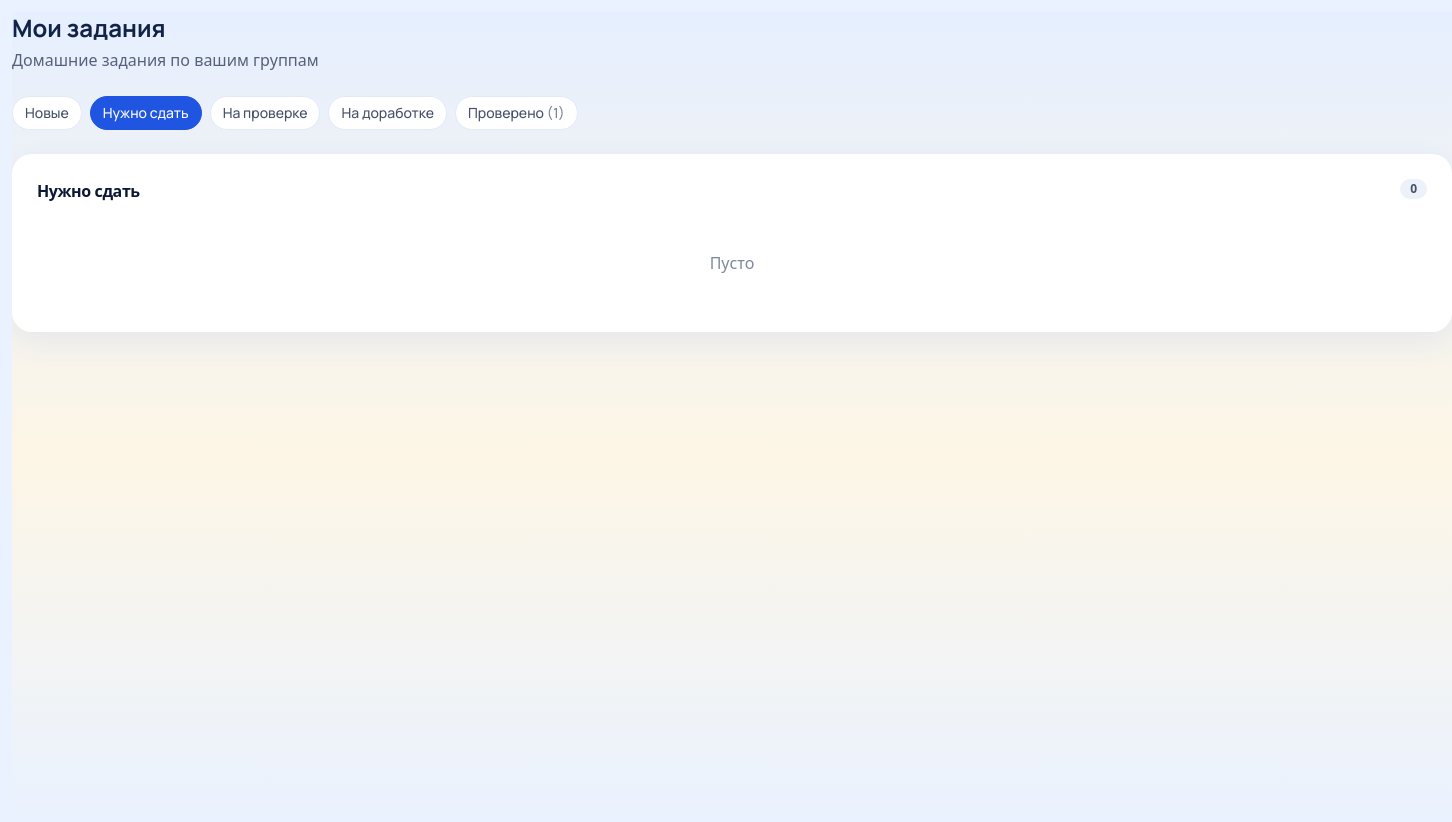
MyHomeworksV2Page — категории (server-derived, проверяем что UI их корректно отображает по вкладкам) › checked (rejected): тоже попадает во вкладку «Проверено»
This screenshot has width=1452, height=822.
Click the button "Проверено (1)".
click(516, 113)  # box left=455, top=96, right=578, bottom=130
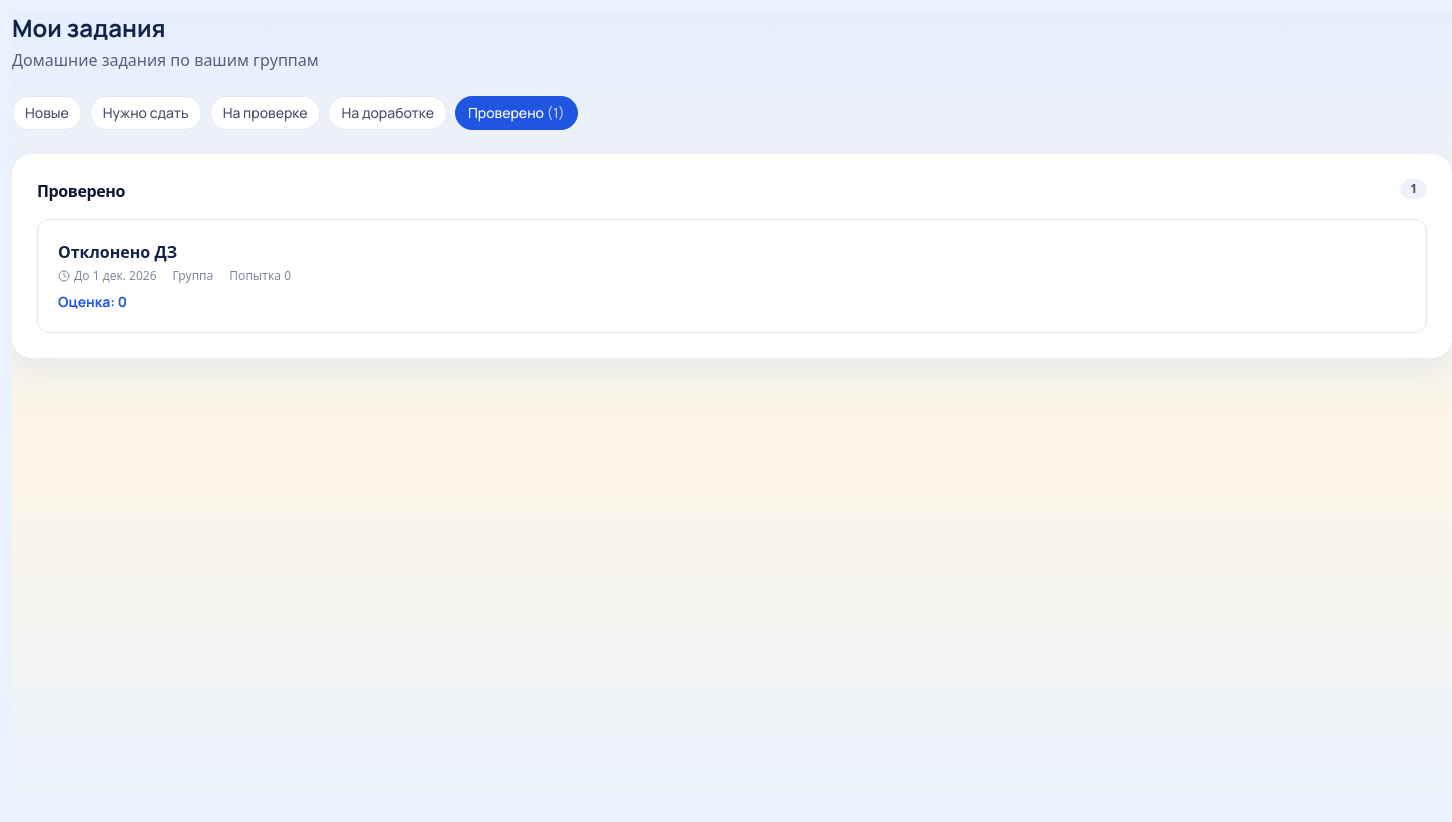
Check: the heading "Отклонено ДЗ" is shown, box left=58, top=240, right=177, bottom=264
